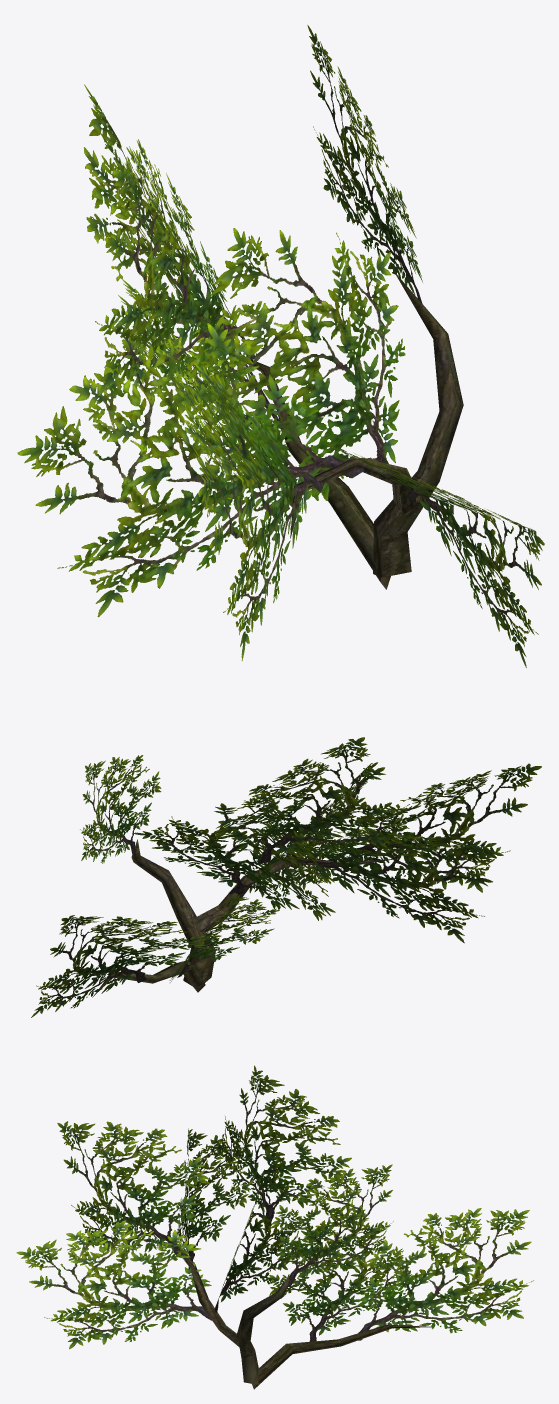
Rendered from fb_chun_shu04_55_14_3772out.fbx.
3 views of the same model, one above another, from view 1: azimuth 30°, elevation 25°; view 2: azimuth 150°, elevation 25°; view 3: azimuth 270°, elevation 25° (orthographic). The views are drawn at different scales.
Parts seen in each view (by area): view 1: 0001_fb_chun_shu04, 0000_fb_chun_shu04; view 2: 0001_fb_chun_shu04, 0000_fb_chun_shu04; view 3: 0001_fb_chun_shu04, 0000_fb_chun_shu04.
Part boxes in pixels (box(x1,y1,x2,y2)): 0001_fb_chun_shu04: box(17, 25, 544, 667); 0000_fb_chun_shu04: box(246, 270, 463, 589); 0001_fb_chun_shu04: box(31, 737, 541, 1017); 0000_fb_chun_shu04: box(92, 839, 392, 997); 0001_fb_chun_shu04: box(16, 1065, 533, 1349); 0000_fb_chun_shu04: box(135, 1238, 430, 1389).
Size of the model in its own units: 3.58 by 3.28 by 6.04.
